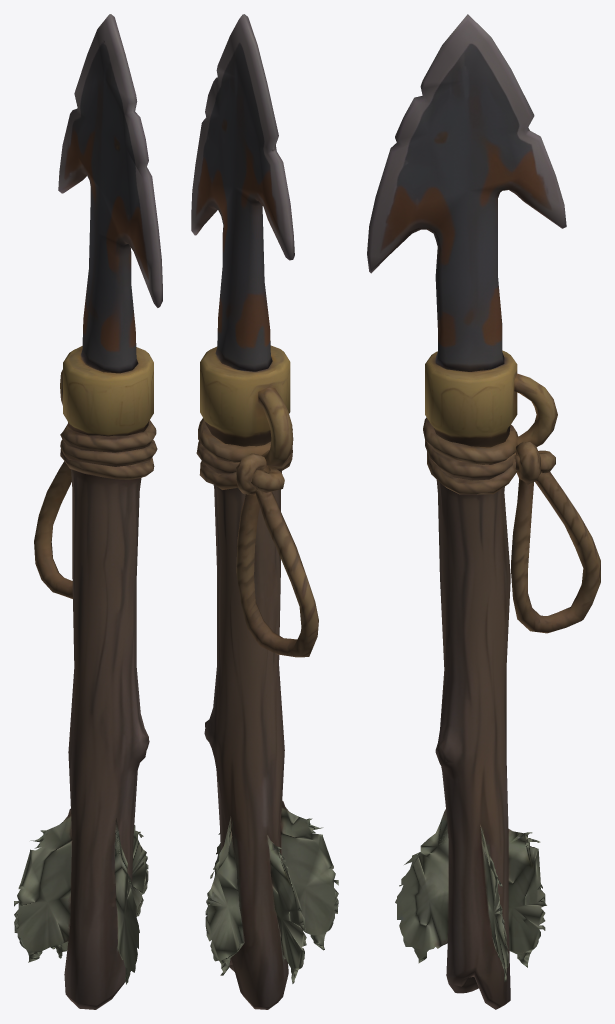
The model's file is harpoon_tripo.glb.
The picture shows the model from 3 angles, left to right: view 1: azimuth 30°, elevation 25°; view 2: azimuth 210°, elevation 25°; view 3: azimuth 270°, elevation 25°; orthographic projection.
Parts seen in each view (by area): view 1: tripo_node_7a4ffd79-3574-4ffb-ad81-6f44175cbe92; view 2: tripo_node_7a4ffd79-3574-4ffb-ad81-6f44175cbe92; view 3: tripo_node_7a4ffd79-3574-4ffb-ad81-6f44175cbe92.
Boxes of the visible parts, <box> form: tripo_node_7a4ffd79-3574-4ffb-ad81-6f44175cbe92: <box>14,14,162,1009</box>; tripo_node_7a4ffd79-3574-4ffb-ad81-6f44175cbe92: <box>191,14,338,1009</box>; tripo_node_7a4ffd79-3574-4ffb-ad81-6f44175cbe92: <box>367,14,600,1009</box>.
Size of the model in its own units: 0.1426 by 0.998 by 0.2129.
1 material, 1 textured.
